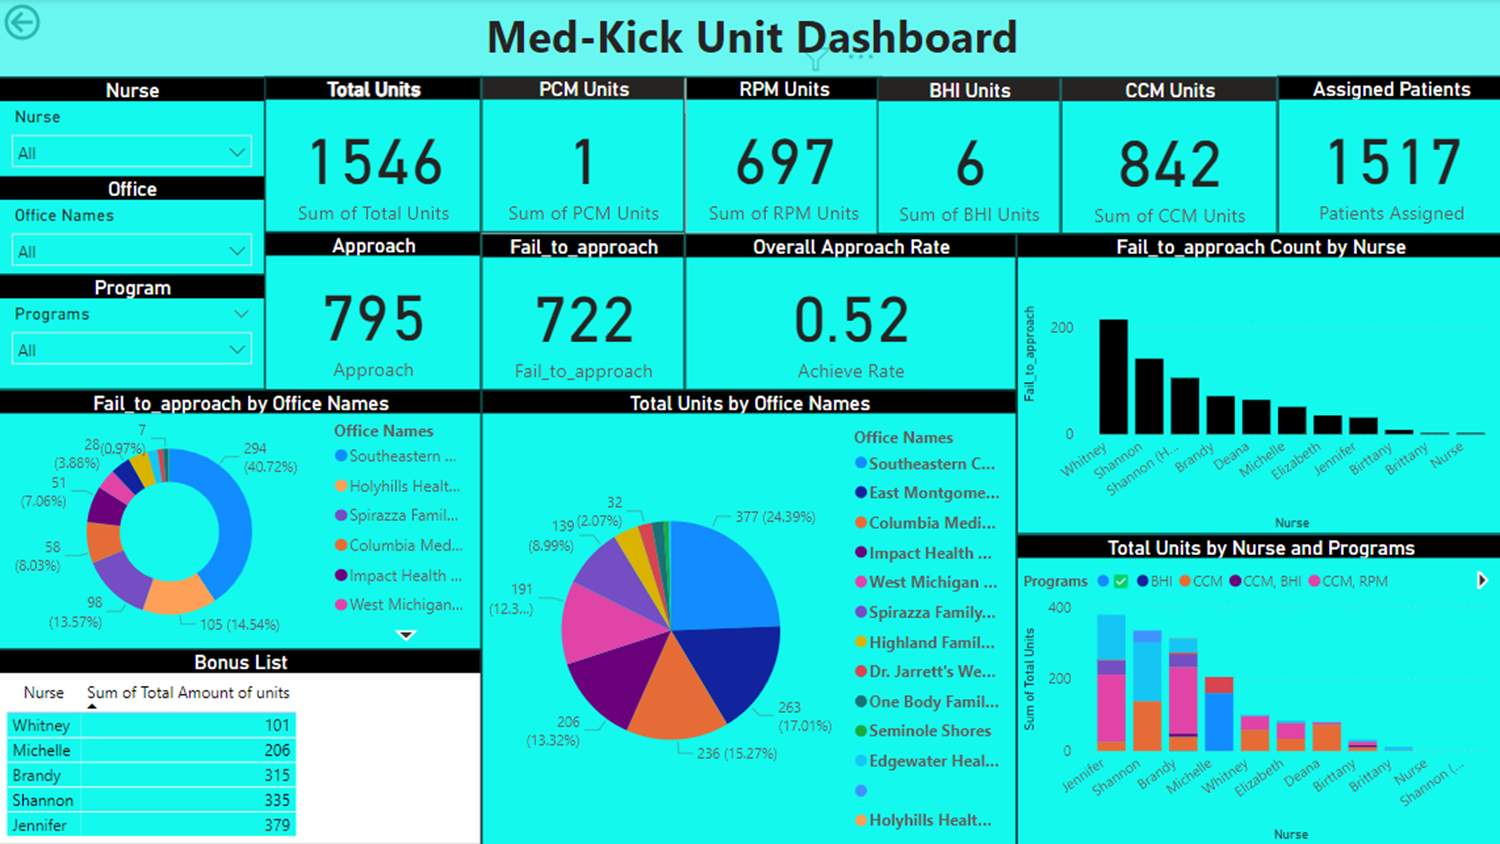

The page's visual inventory and layout, read from the dashboard file:
{"tool":"powerbi","page":{"name":"Units","canvas":[1280,720],"ordinal":0},"visuals":[{"type":"slicer","title":"Nurse","fields":{"Values":["Nurses.First_Name"]},"box":[0,349,226.1,93.5],"z":0},{"type":"slicer","title":"Office","fields":{"Values":["Exporting.Office Names"]},"box":[0,442.5,226.1,83.8],"z":1000},{"type":"card","title":"CCM Units","fields":{"Values":["Sum(Exporting.CCM Units)"]},"box":[903.1,67,184.3,132.6],"z":2000},{"type":"card","title":"PCM Units","fields":{"Values":["Sum(Exporting.PCM Units)"]},"box":[410.4,65.6,173.1,132.6],"z":3000},{"type":"card","title":"RPM Units","fields":{"Values":["Sum(Exporting.RPM Units)"]},"box":[583.5,65.6,167.5,134],"z":4000},{"type":"card","title":"BHI Units","fields":{"Values":["Sum(Exporting.BHI Units)"]},"box":[746.8,67,156.3,132.6],"z":5000},{"type":"card","title":"Fail_to_approach","fields":{"Values":["Exporting.ZeroCount"]},"box":[410.4,199.6,173.1,132.6],"z":6000},{"type":"columnChart","title":"Total Units by Nurse and Programs","fields":{"Category":["Exporting.Nurse"],"Series":["Exporting.Programs"],"Y":["Sum(Exporting.Total Units)"]},"box":[865.4,455,414.6,265.2],"z":7000},{"type":"card","title":"Total Units","fields":{"Values":["Sum(Exporting.Total Units)"]},"box":[226.1,65.6,184.3,132.6],"z":8000},{"type":"columnChart","title":"Fail_to_approach Count by Nurse","fields":{"Category":["Exporting.Nurse"],"Y":["Exporting.Fail_to_approach"]},"box":[865.4,199.6,414.6,255.4],"z":9000},{"type":"actionButton","box":[0,0,100,40],"z":10000},{"type":"slicer","title":"Program","fields":{"Values":["Exporting.Programs"]},"box":[0,526.2,226.1,97.7],"z":11000},{"type":"textbox","box":[0,0,1280,67],"z":12000},{"type":"card","title":"Approach","fields":{"Values":["Exporting.Approach"]},"box":[226.1,198.2,184.3,134],"z":13000},{"type":"card","title":"Assigned Patients","fields":{"Values":["Exporting.Patients Assigned"]},"box":[1087.8,67.5,191.8,132.7],"z":14000},{"type":"card","title":"Overall Approach Rate","fields":{"Values":["Exporting.Achieve Rate"]},"box":[583.5,198.2,282,132.6],"z":15000},{"type":"slicer","title":"Month","fields":{"Values":["Duration_Table.Month"]},"box":[0,159.1,226.1,93.5],"z":16000},{"type":"slicer","title":"Year","fields":{"Values":["Calender.Year"]},"box":[0,65.6,226.1,93.5],"z":17000},{"type":"slicer","title":"Date","fields":{"Values":["Calender.Date"]},"box":[0,252.6,226.1,93.5],"z":18000},{"type":"tableEx","fields":{"Values":["Duration_Table.Duration","Duration_Table.Type"]},"box":[0,623.9,226.1,96.3],"z":19000},{"type":"donutChart","title":"Overall Approach Rate","fields":{"Y":["Exporting.Achieved Rate"],"Category":["Exporting.Nurse"]},"box":[226.1,332.2,639.3,388],"z":21000}]}

Visuals, with their boxes in screenshot pixels (x1, y1, x2, y2), scaled from the page's 1280x720 canvas onto the 1500x844 screenshot:
"Nurse" slicer: locate(0, 409, 265, 519)
"Office" slicer: locate(0, 519, 265, 617)
"CCM Units" card: locate(1058, 79, 1274, 234)
"PCM Units" card: locate(481, 77, 684, 232)
"RPM Units" card: locate(684, 77, 880, 234)
"BHI Units" card: locate(875, 79, 1058, 234)
"Fail_to_approach" card: locate(481, 234, 684, 389)
"Total Units by Nurse and Programs" columnChart: locate(1014, 533, 1499, 843)
"Total Units" card: locate(265, 77, 481, 232)
"Fail_to_approach Count by Nurse" columnChart: locate(1014, 234, 1499, 533)
actionButton: locate(0, 0, 117, 47)
"Program" slicer: locate(0, 617, 265, 731)
textbox: locate(0, 0, 1499, 79)
"Approach" card: locate(265, 232, 481, 389)
"Assigned Patients" card: locate(1275, 79, 1499, 235)
"Overall Approach Rate" card: locate(684, 232, 1014, 388)
"Month" slicer: locate(0, 187, 265, 296)
"Year" slicer: locate(0, 77, 265, 187)
"Date" slicer: locate(0, 296, 265, 406)
tableEx - Duration_Table.Duration x Duration_Table.Type: locate(0, 731, 265, 843)
"Overall Approach Rate" donutChart: locate(265, 389, 1014, 843)
